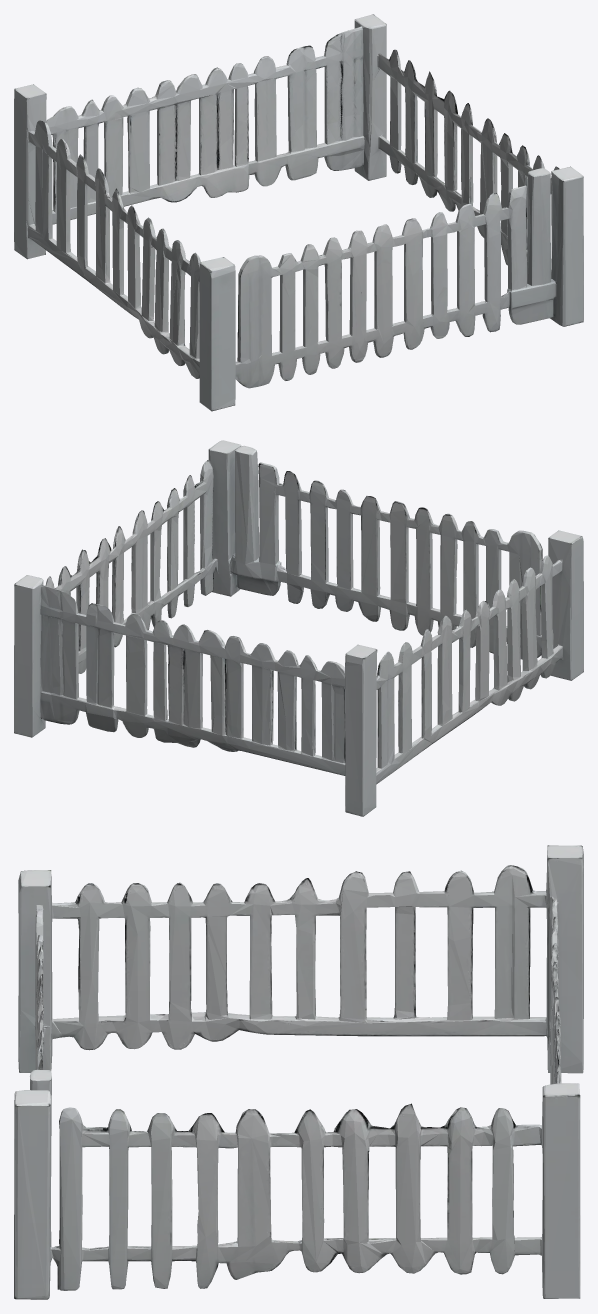
Rendered from fence_picket_corner.glb.
3 views of the same model, one above another, from view 1: azimuth 30°, elevation 25°; view 2: azimuth 150°, elevation 25°; view 3: azimuth 270°, elevation 25° (orthographic). The views are drawn at different scales.
Parts seen in each view (by area): view 1: geometry_0; view 2: geometry_0; view 3: geometry_0.
Part boxes in pixels (bbox=[...]): geometry_0: bbox=[14, 14, 583, 411]; geometry_0: bbox=[14, 440, 583, 816]; geometry_0: bbox=[14, 845, 583, 1299].
Bounding box in the file's own units: 1 × 0.4245 × 0.992.
1 material, 1 textured.
